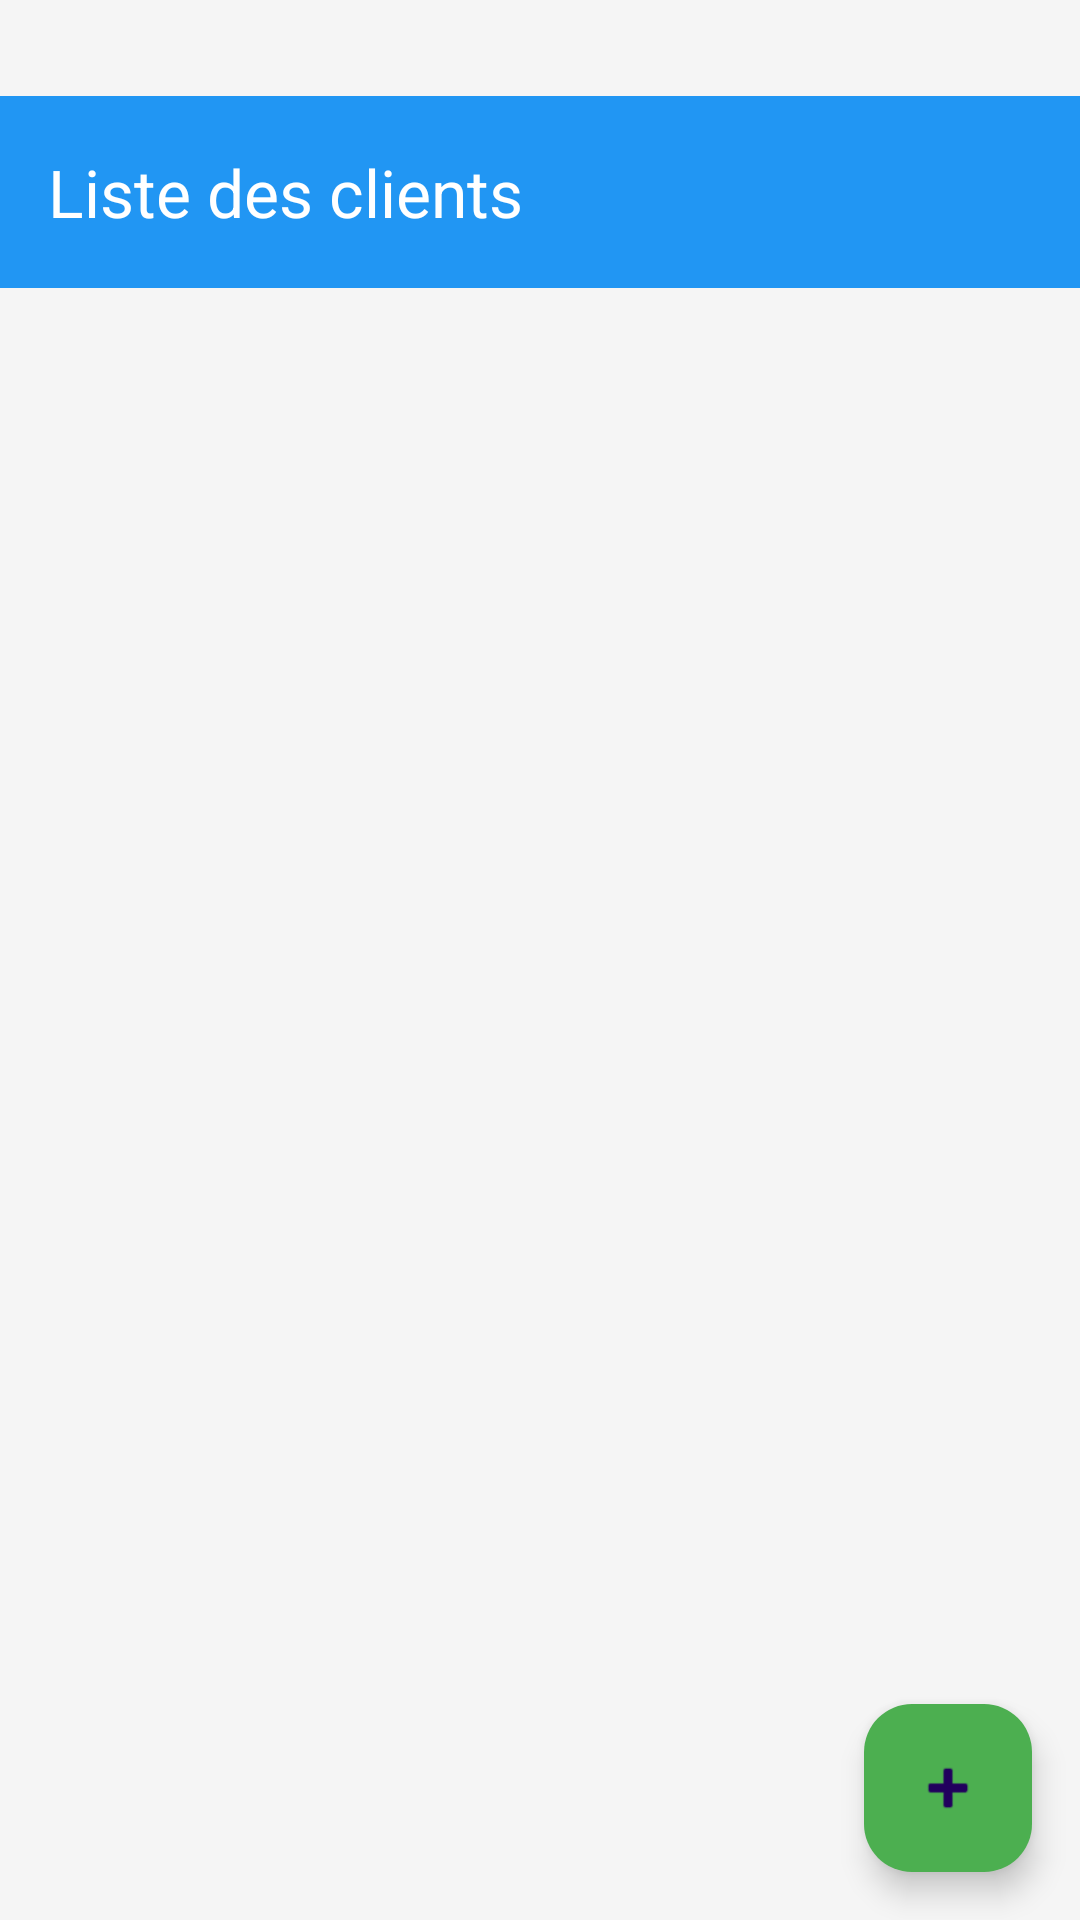

Screen size 1080px x 1920px. Icon name, then its center in pixels as [x,y]:
Ajouter un client: [948,1788]
